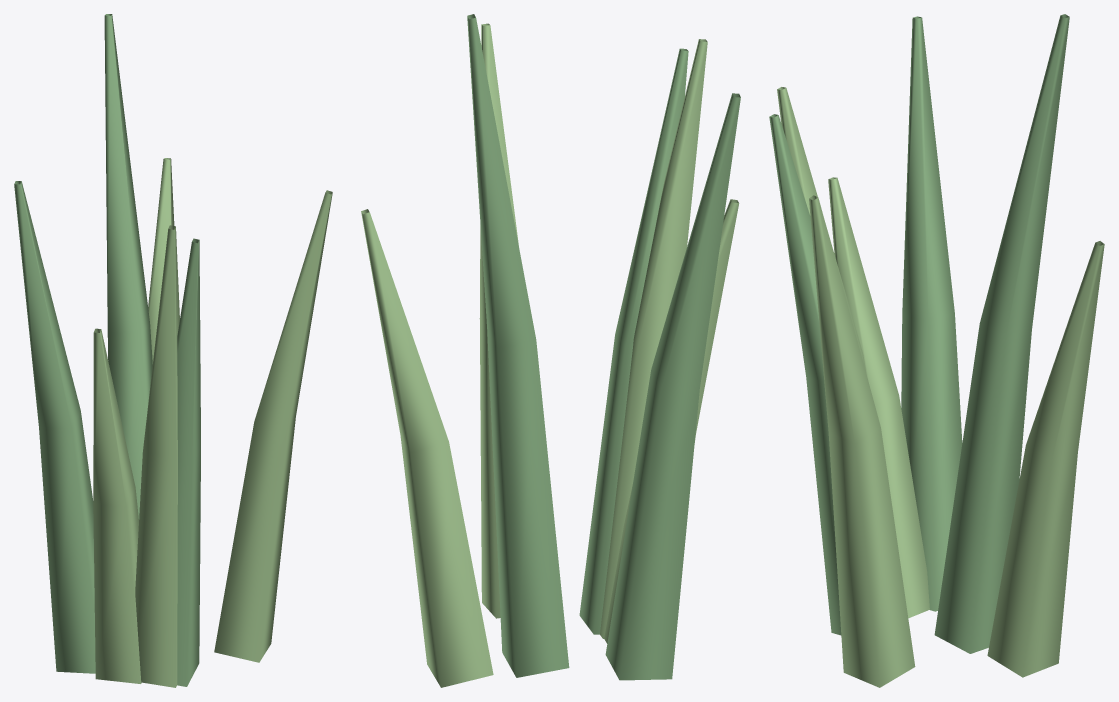
File: grass_tuft_b.glb
The picture shows the model from 3 angles, left to right: view 1: azimuth 30°, elevation 25°; view 2: azimuth 150°, elevation 25°; view 3: azimuth 270°, elevation 25°; orthographic projection. The views are drawn at different scales.
Parts seen in each view (by area): view 1: grass_tuft_b; view 2: grass_tuft_b; view 3: grass_tuft_b.
Boxes of the visible parts, x1,y1,x2,y2 form: grass_tuft_b: [14, 14, 332, 687]; grass_tuft_b: [361, 14, 740, 687]; grass_tuft_b: [769, 14, 1104, 687].
Bounding box in the file's own units: 0.2817 × 0.5832 × 0.28.
